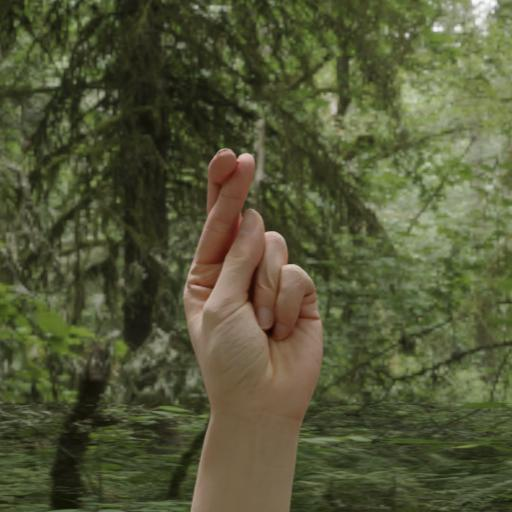R: (182, 144, 342, 454)
